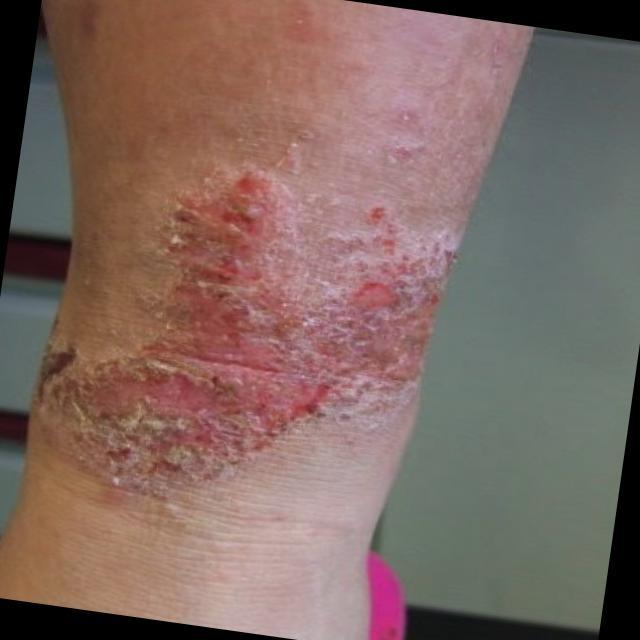Eczema: (30, 177, 478, 480)
